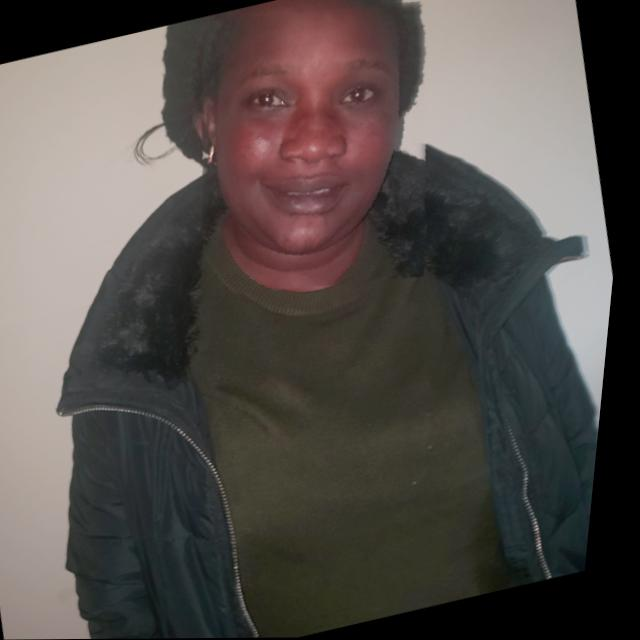happy: (154, 0, 478, 318)
